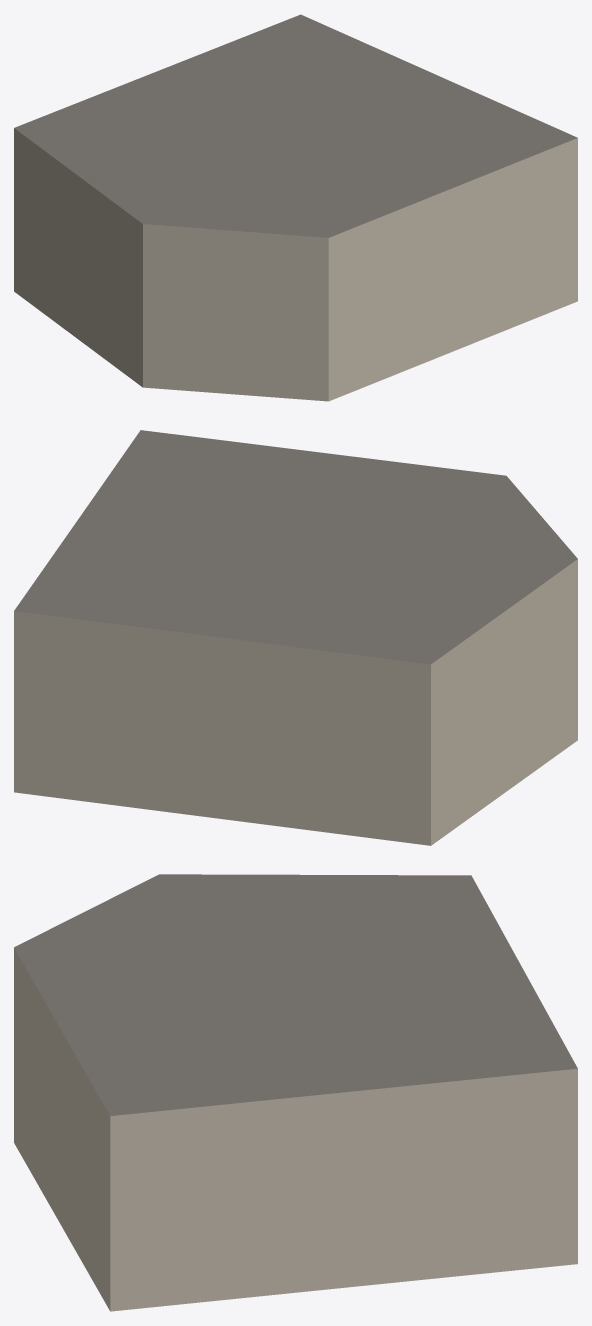
The picture shows the model from 3 angles, top to bottom: view 1: azimuth 30°, elevation 25°; view 2: azimuth 150°, elevation 25°; view 3: azimuth 270°, elevation 25°; orthographic projection. The views are drawn at different scales.
Parts seen in each view (by area): view 1: HP-w449067893; view 2: HP-w449067893; view 3: HP-w449067893.
Boxes of the visible parts, bbox=[...] form: HP-w449067893: bbox=[14, 14, 577, 401]; HP-w449067893: bbox=[14, 430, 577, 845]; HP-w449067893: bbox=[14, 874, 577, 1311].
Size of the model in its own units: 47.77 by 18 by 47.08.
